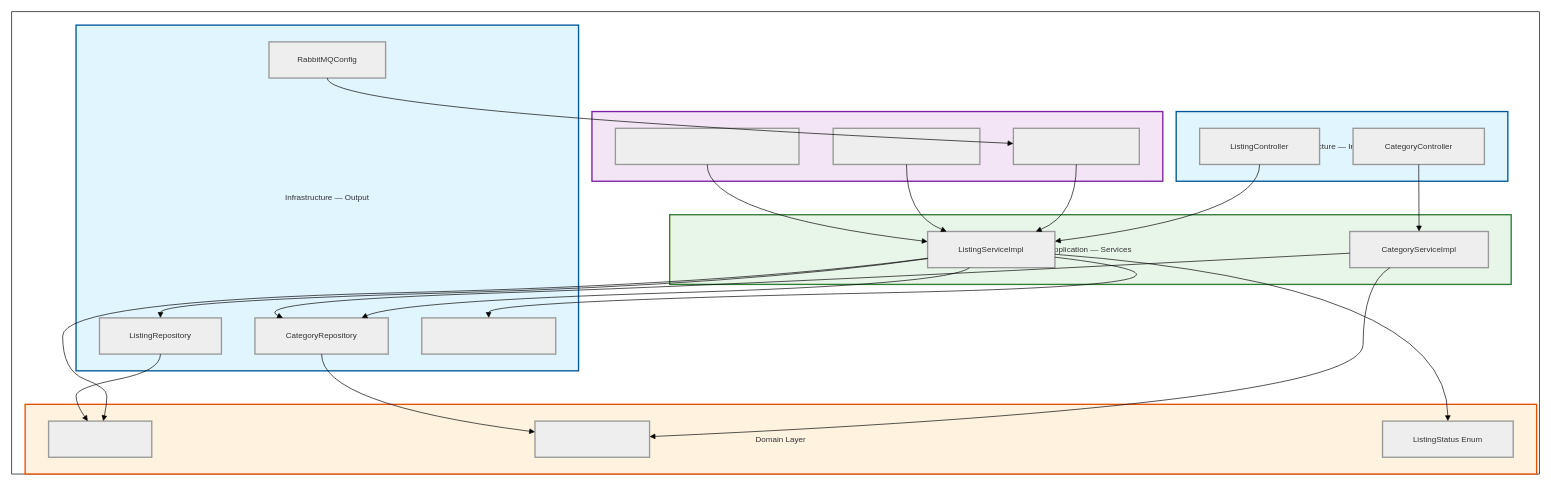
Some shapes in this 1551 by 486 pixel diagram are drawn without their labels. Here are the shapes that lost their labels. From the top down, the centre of each, then its label:
(706,146): AuctionTimeExtendedListener
(906,146): AuctionClosedListener
(1076,146): BidPlacedListener
(488,335): ListingSpecification
(100,439): Listing Entity
(592,439): Category Entity
